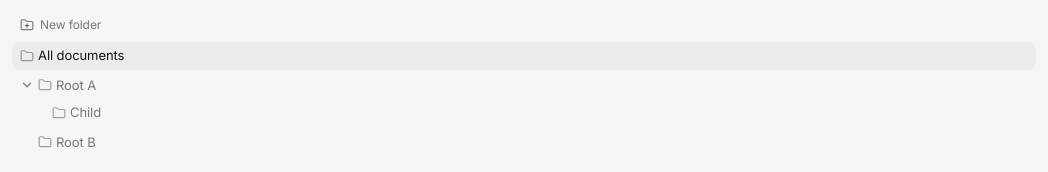
Scenario: collapsing a folder hides its children without changing selection, and expanding restores them
Check: the text "Child" is shown, box [70,103,101,122]
Click the button named "Collapse Root A" at (27, 85), box [20,78,34,92]
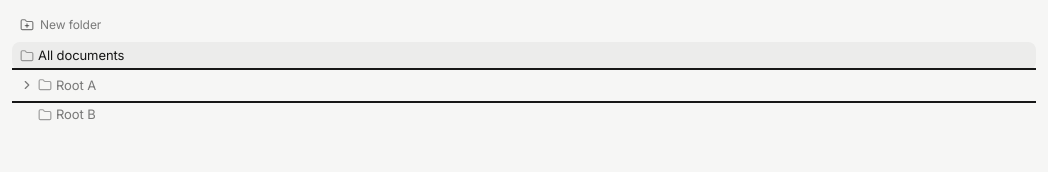
Check: the button "Child" is gone
Click the button named "Expand Root A" at (27, 85), box [20,78,34,92]
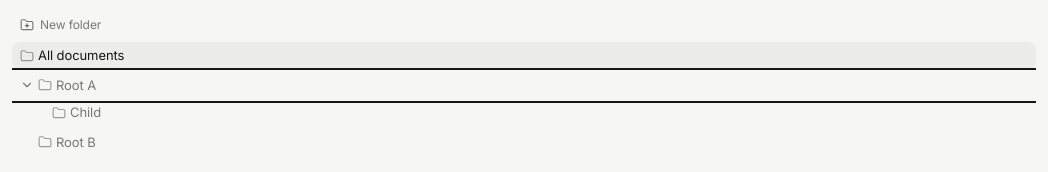
Check: the text "Child" is shown, box [70,103,101,122]
